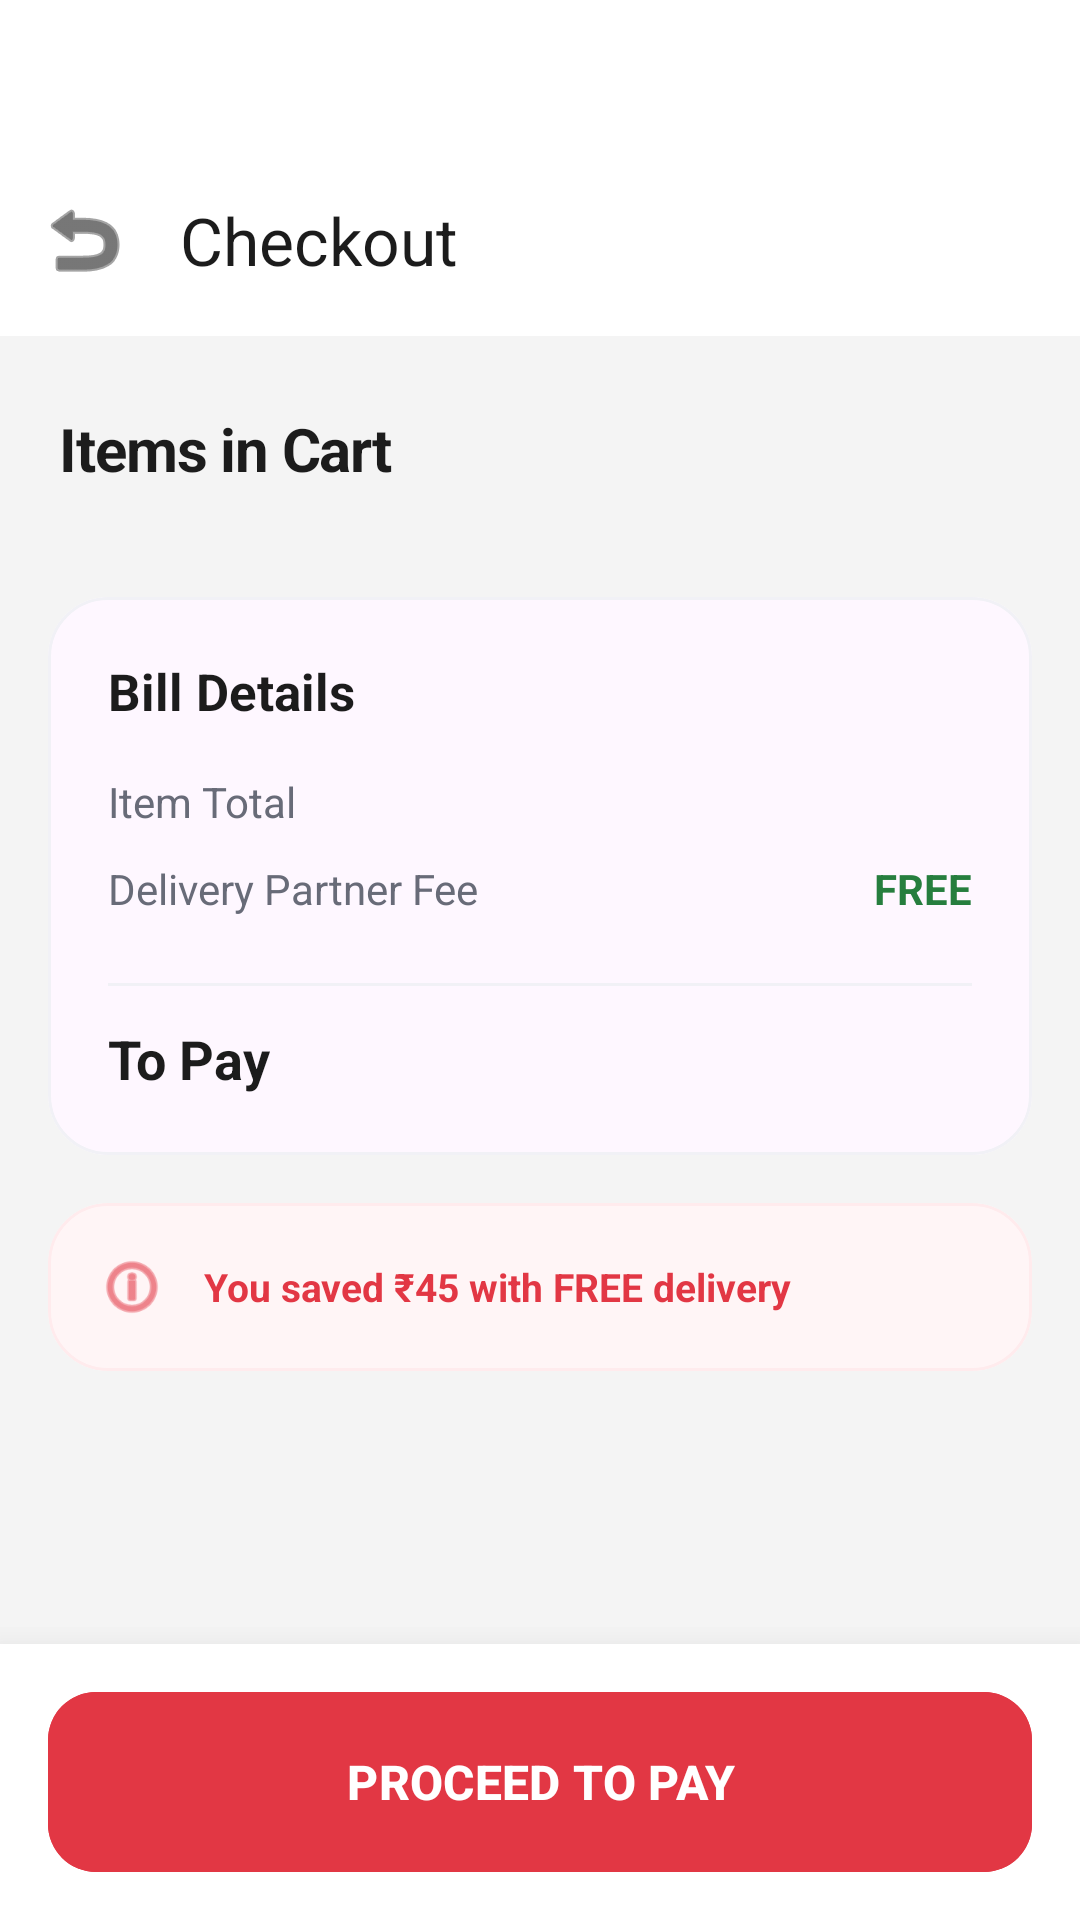

Screen size 1080×1920. Icon name, then its center in pixels as point (x, y):
info details: point (132, 1287)
